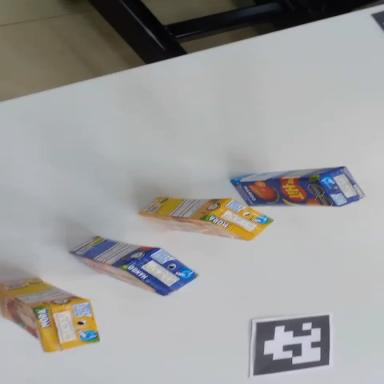HIT-MANGO: (67, 233, 200, 301), (230, 166, 364, 207)
HIT-MORA: (0, 265, 100, 361), (139, 186, 275, 244)
cara_F: (66, 253, 166, 296), (0, 289, 59, 350), (230, 177, 338, 207), (138, 215, 248, 241)
